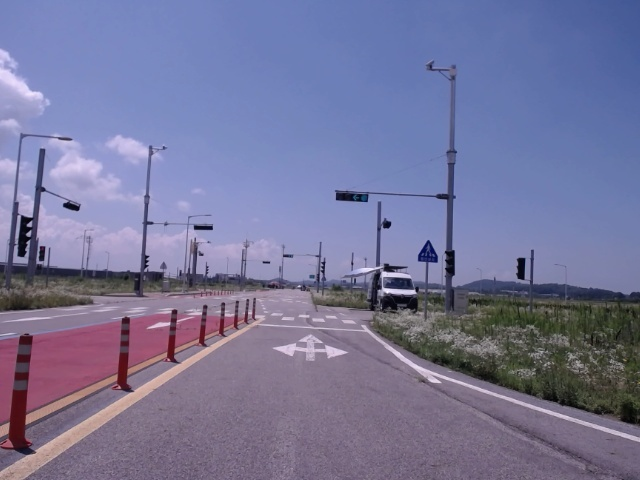all_green_4: (336, 189, 369, 203)
